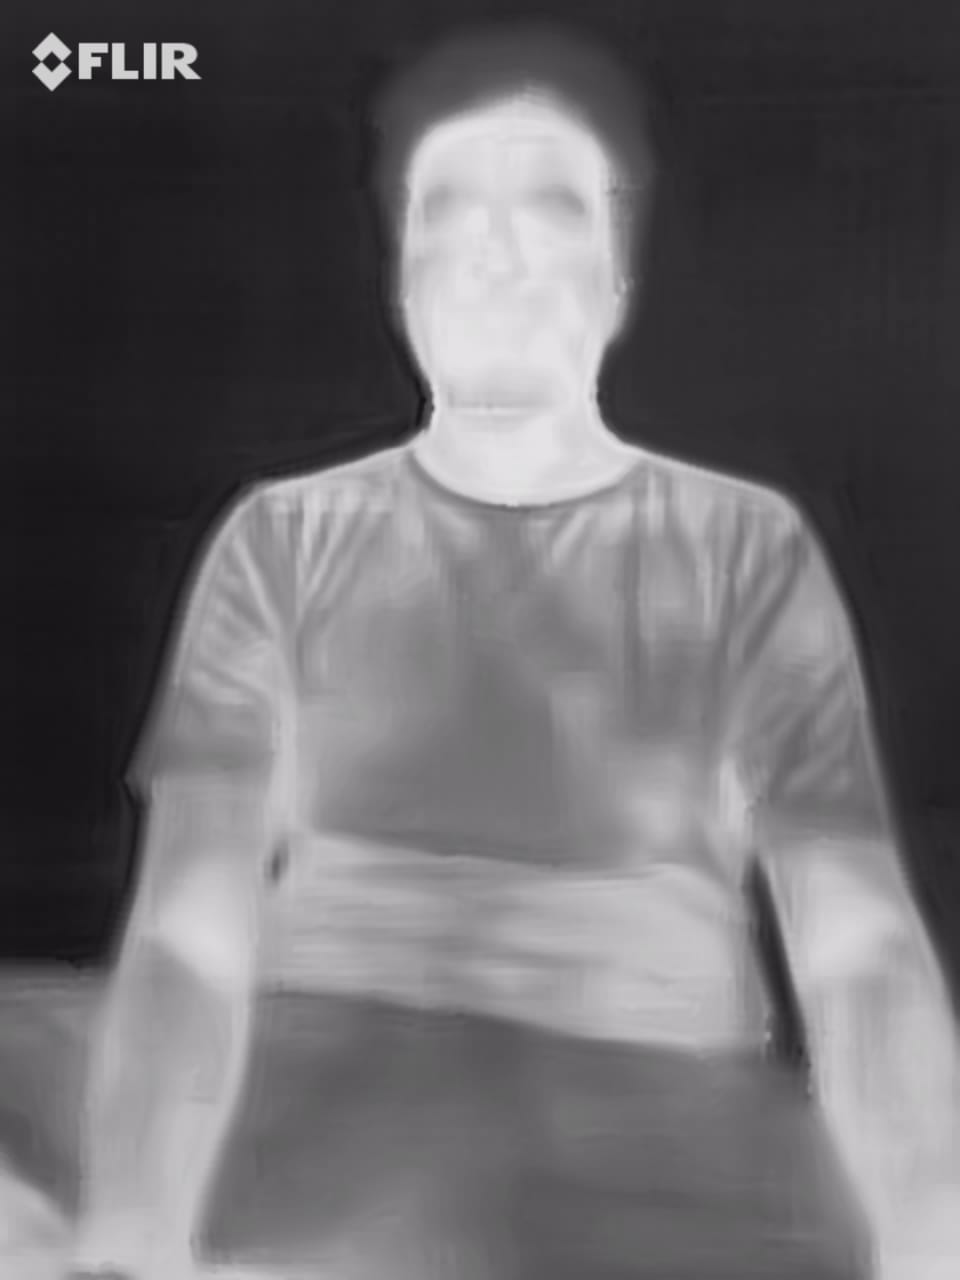head: (360, 27, 667, 445)
